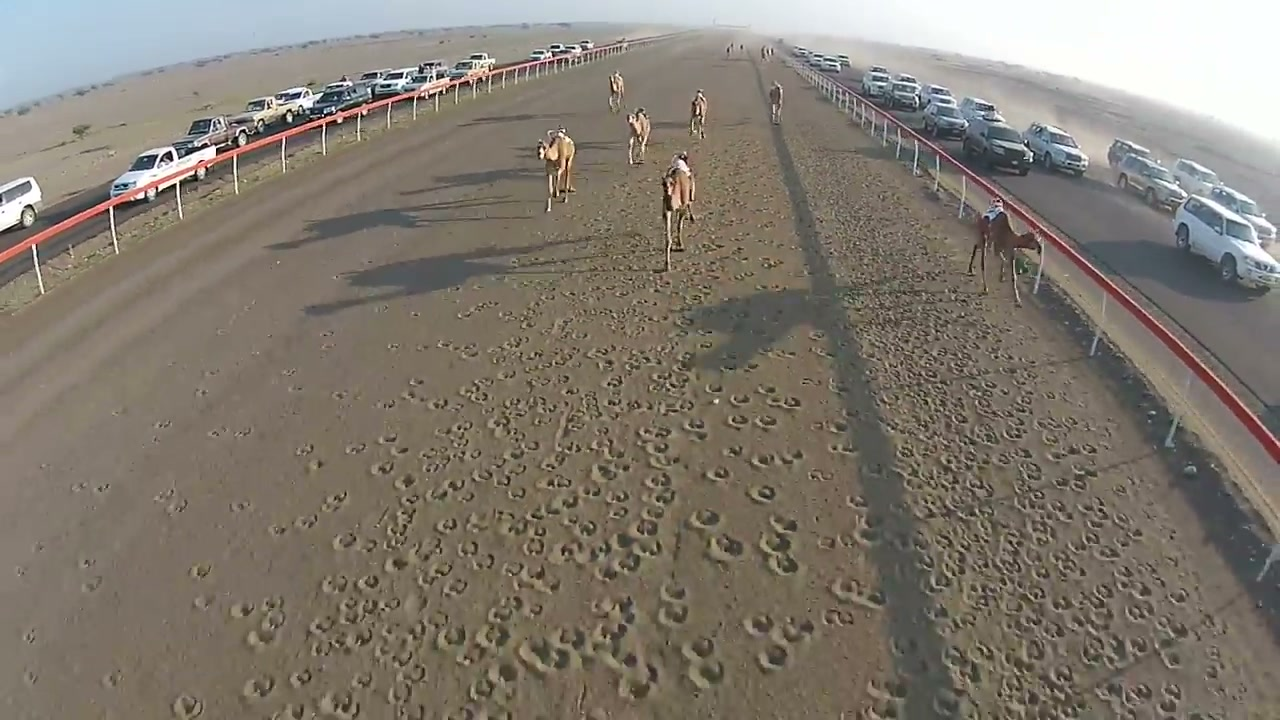animal_foot_print: (14, 94, 1274, 717), (781, 108, 1268, 716), (680, 232, 1247, 716), (483, 258, 1096, 702), (311, 341, 829, 704), (370, 308, 828, 702), (421, 321, 862, 595), (228, 596, 288, 654), (757, 516, 801, 576), (681, 636, 725, 689), (862, 678, 909, 719), (831, 579, 885, 609), (687, 658, 725, 689), (706, 534, 745, 564), (756, 643, 791, 672), (656, 600, 688, 629), (242, 675, 275, 703), (765, 552, 802, 576), (742, 613, 774, 638), (171, 694, 203, 719), (687, 508, 721, 531), (748, 484, 777, 503), (704, 465, 731, 482), (100, 670, 123, 689), (189, 563, 211, 580), (193, 594, 213, 610), (689, 126, 697, 137), (697, 131, 705, 138)
